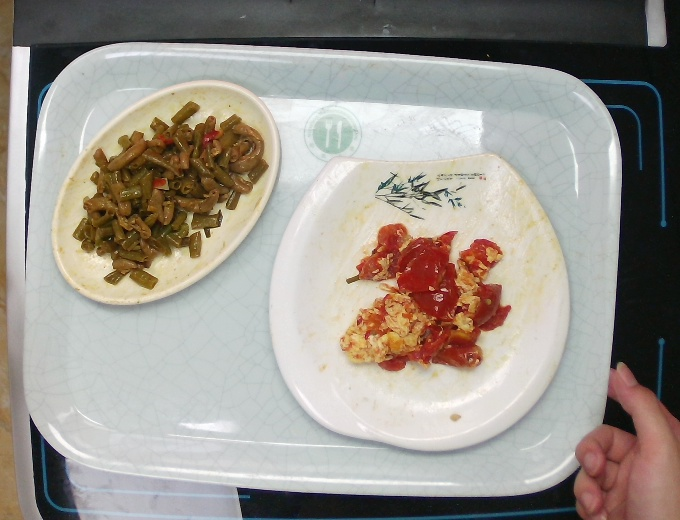JYsf-Mian_Pan: (261, 140, 575, 461)
JYsf-Tuo_Yuan_Wan: (40, 77, 286, 312)
